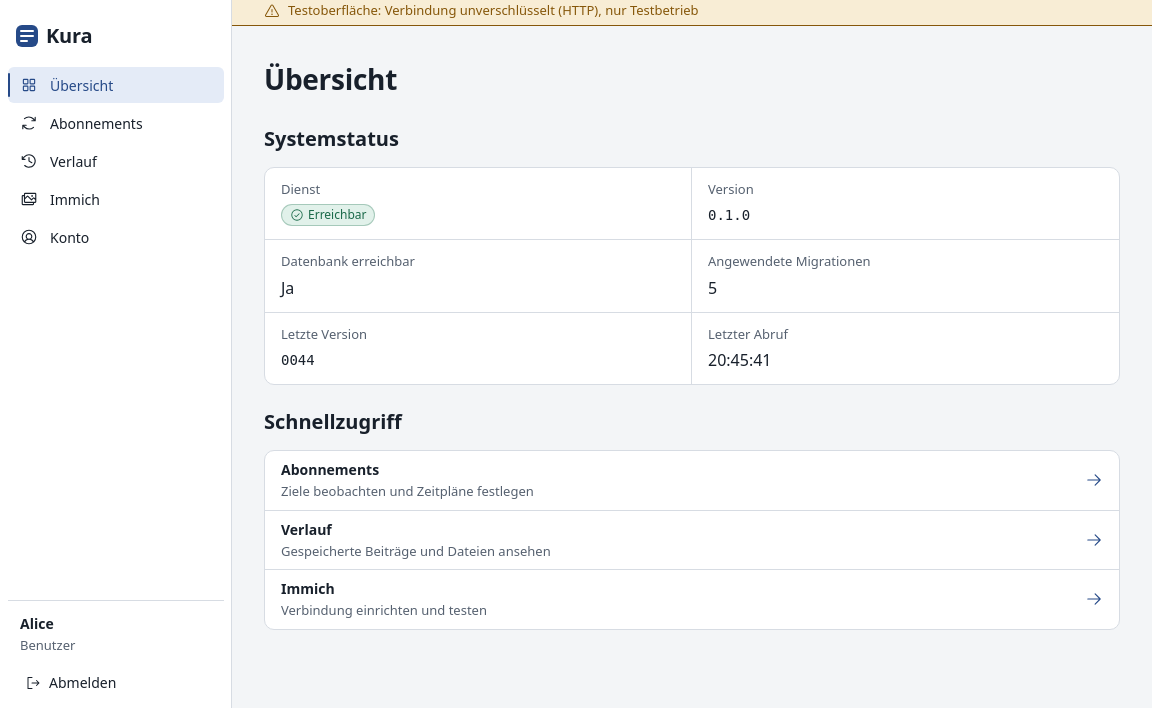
Test case: previews the next runs and marks the skipped DST occurrence
Expected: the text "Erreichbar" is shown, [281,204,376,226]
Click the button "Abonnements" at {"x": 116, "y": 123}, box [8,105,224,141]
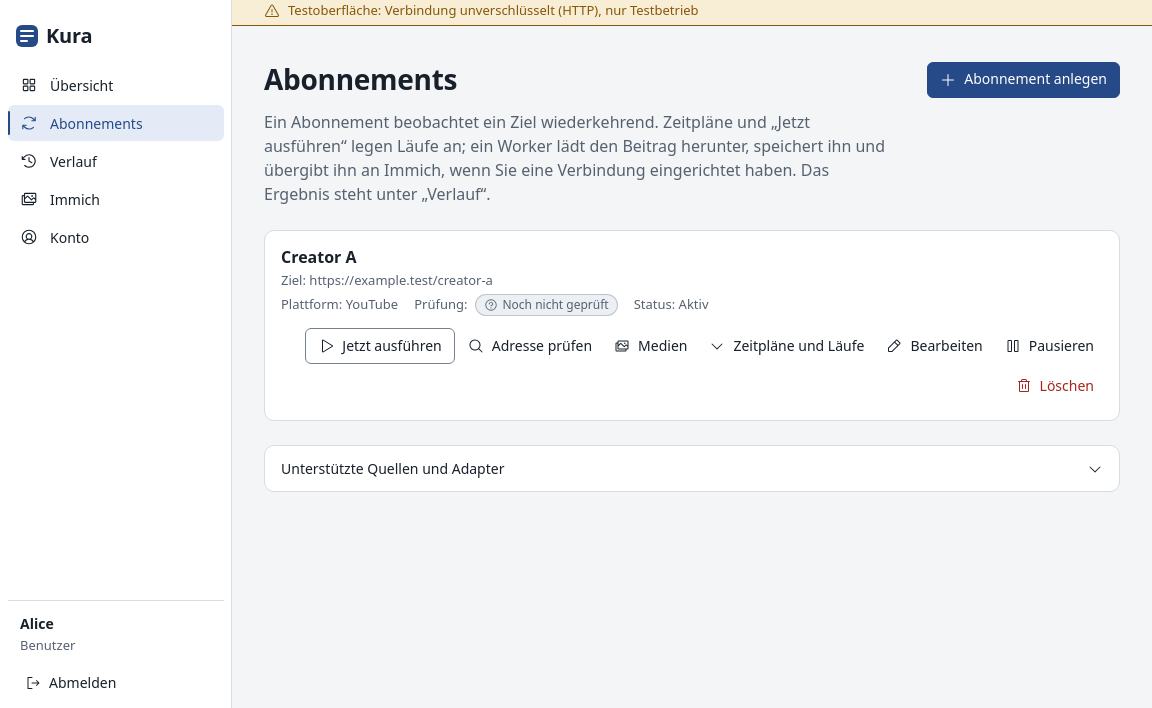
Expected: the heading "Abonnements" is shown, [264,62,457,97]
Click the button "Zeitpläne und Läufe" at {"x": 787, "y": 346}, box [700,328,873,364]
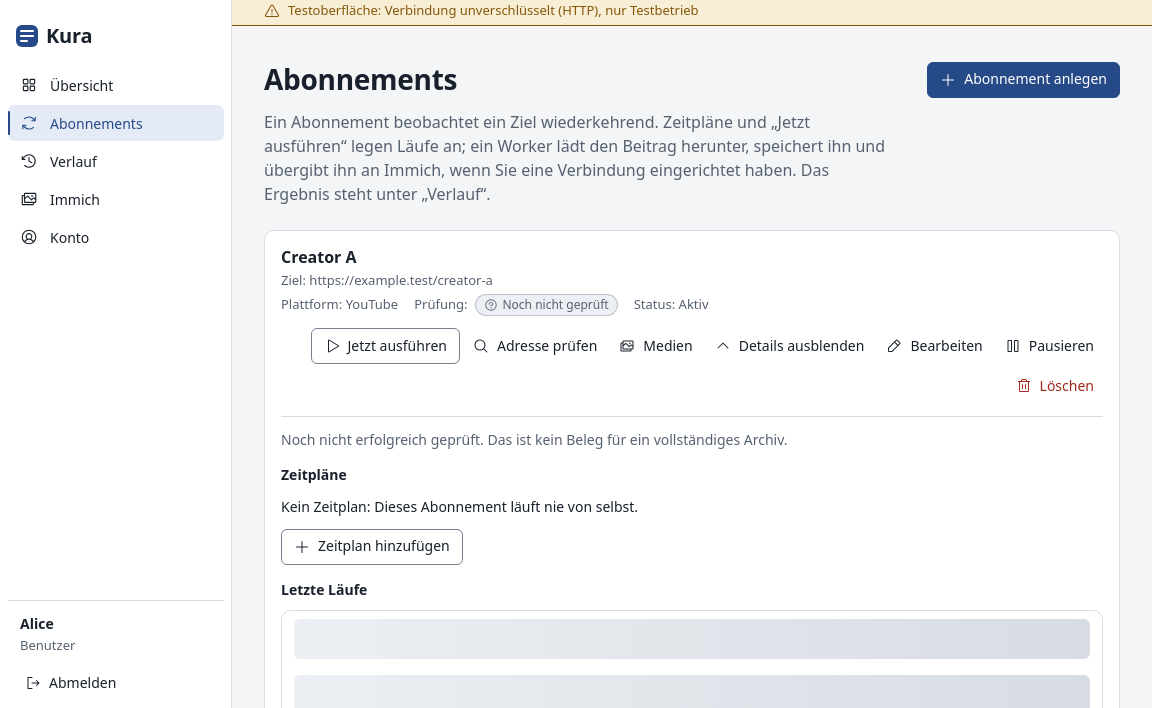
Click the button "Zeitplan hinzufügen" at {"x": 372, "y": 546}, box [281,528,463,564]
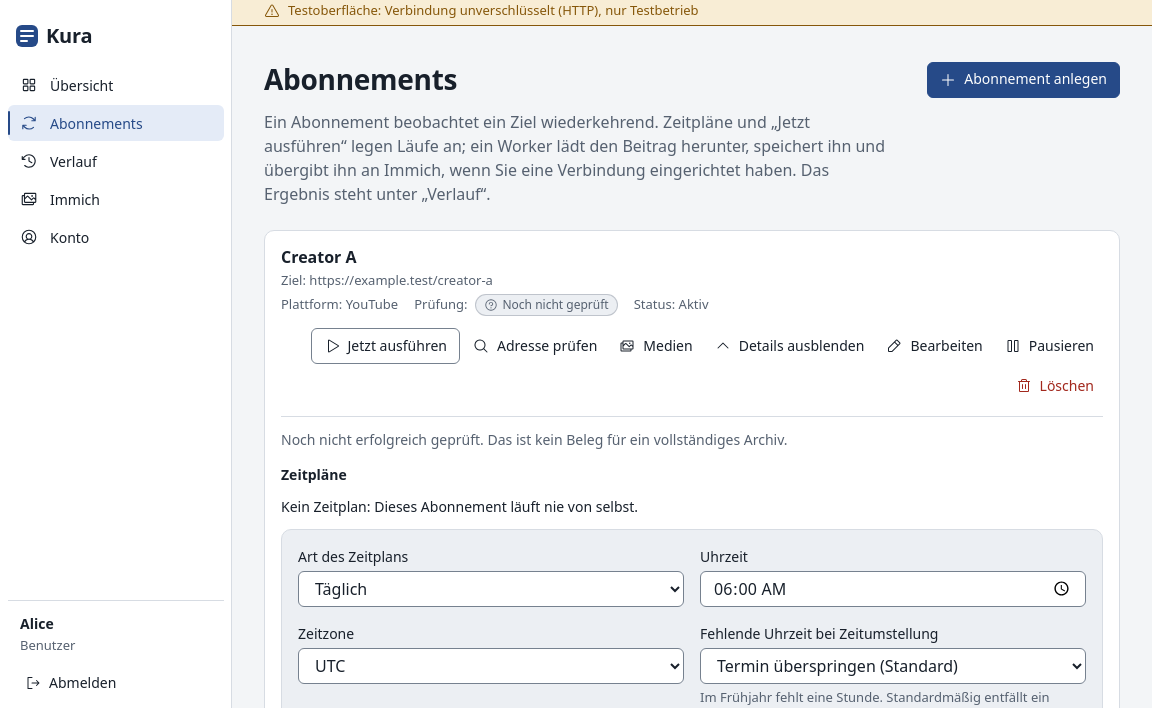
Select "Europe/Berlin" in the dropdown labelled "Zeitzone" at {"x": 491, "y": 666}, box [298,648,684,684]
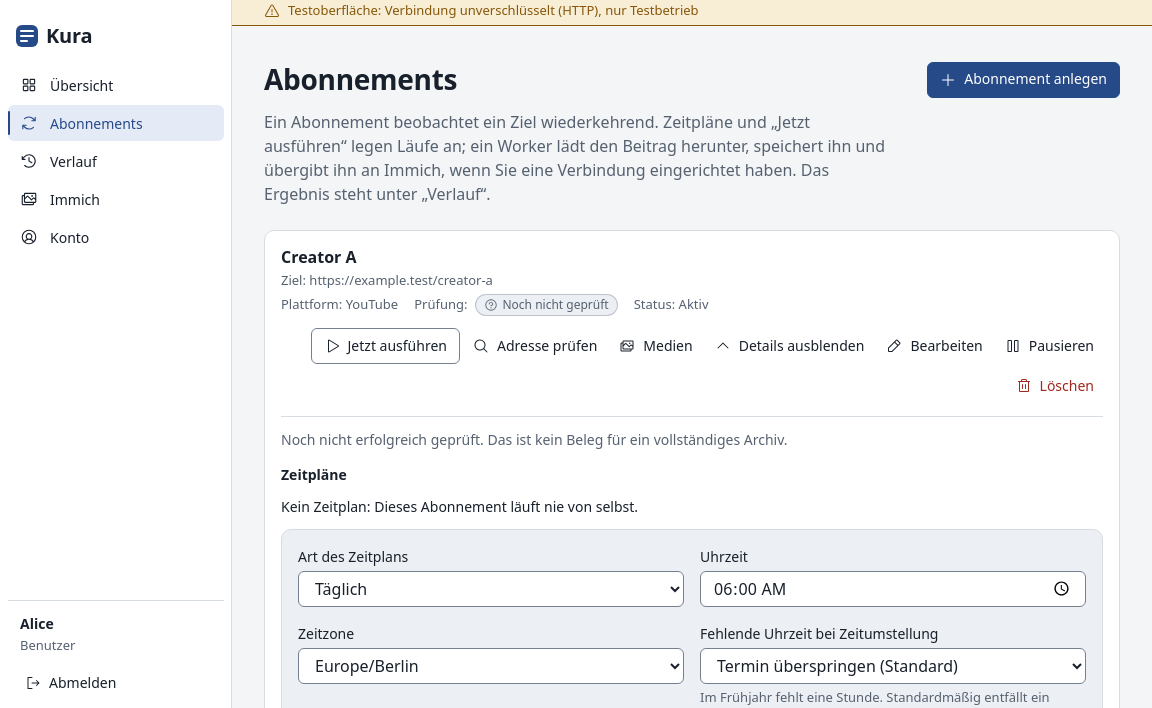
Replace the text in the time field labelled "Uhrzeit" with "02:30" at {"x": 893, "y": 588}, box [700,570,1086,606]
(page scrolled)
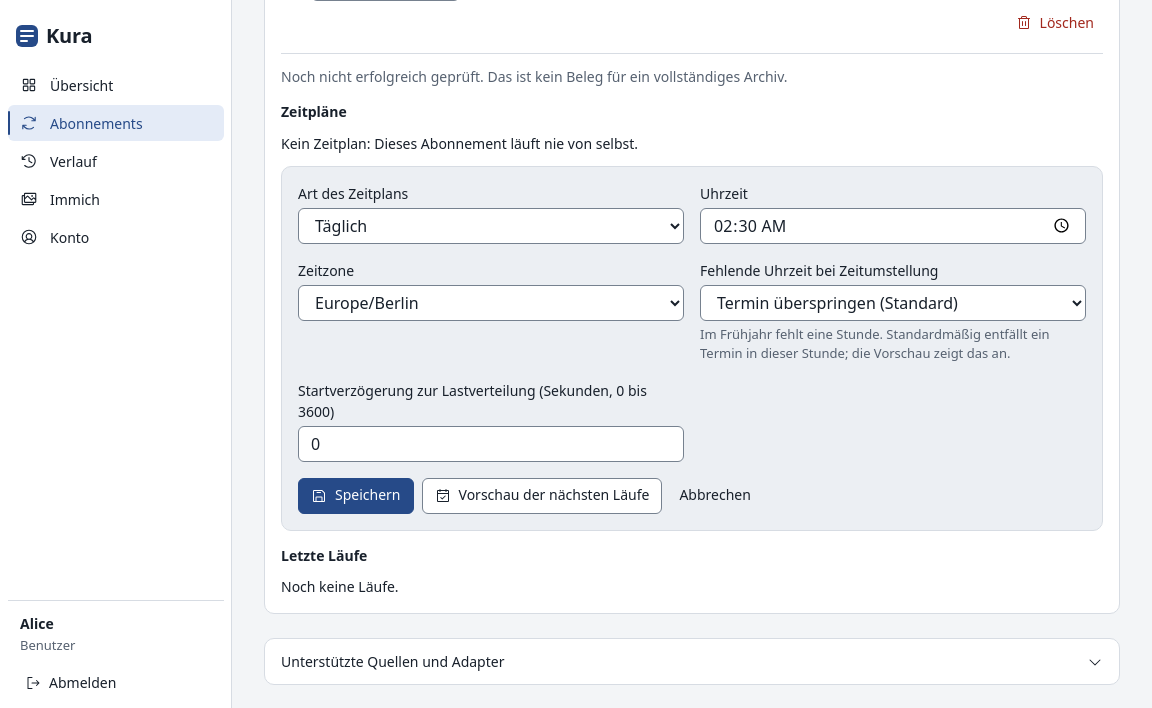
Click the button "Vorschau der nächsten Läufe" at {"x": 542, "y": 496}, box [422,478,662,514]
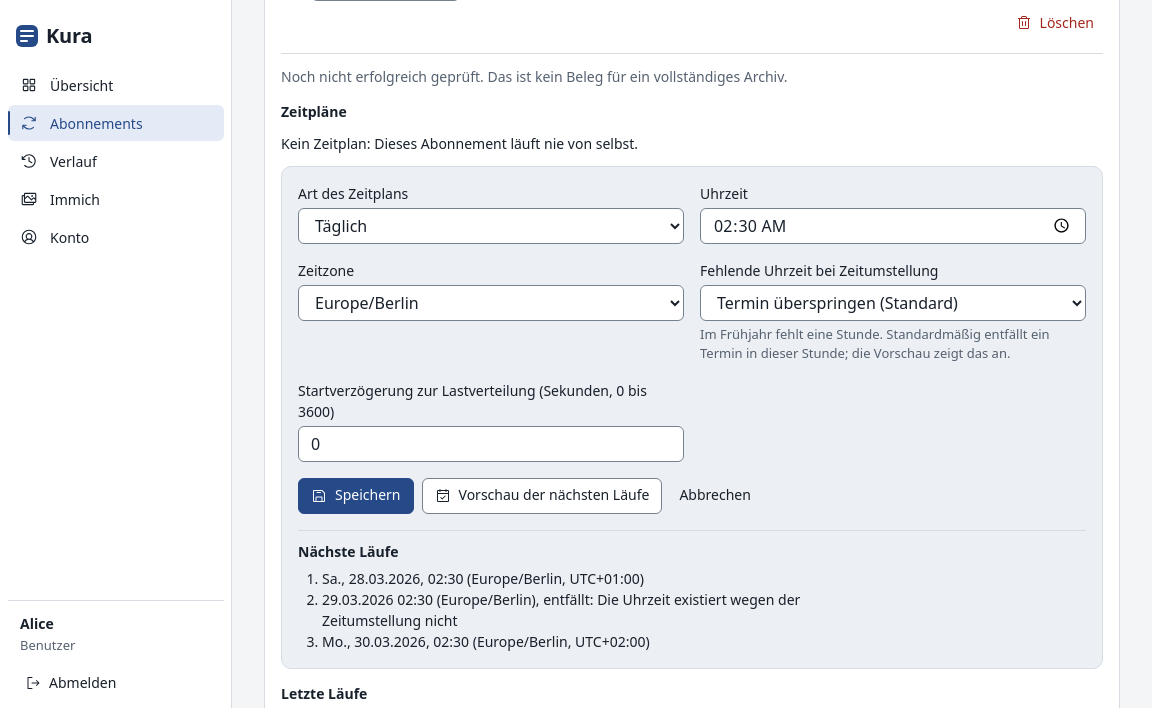
Expected: the list item "29.03.2026 02:30 (Europe/Berlin), entfällt: Die Uhrzeit existiert wegen der Zeitumstellung nicht" is shown, [322,590,800,630]
Expected: the number of list items "Sa., 28.03.2026, 02:30 (Europe/Berlin, UTC+01:00)" is 1, [322,569,644,588]
Expected: the number of list items "Mo., 30.03.2026, 02:30 (Europe/Berlin, UTC+02:00)" is 1, [322,632,650,651]
